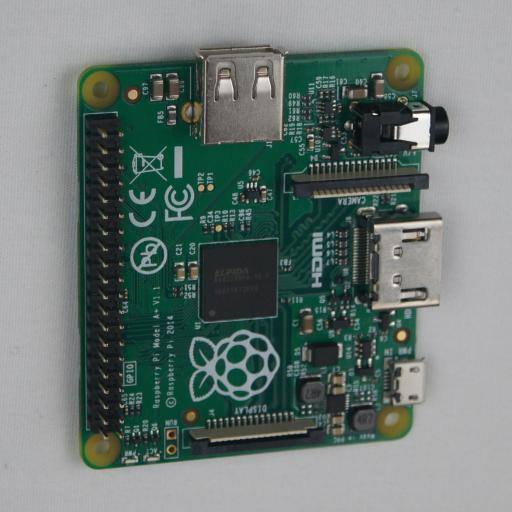Raspberry Pi A-: (77, 48, 449, 469)
